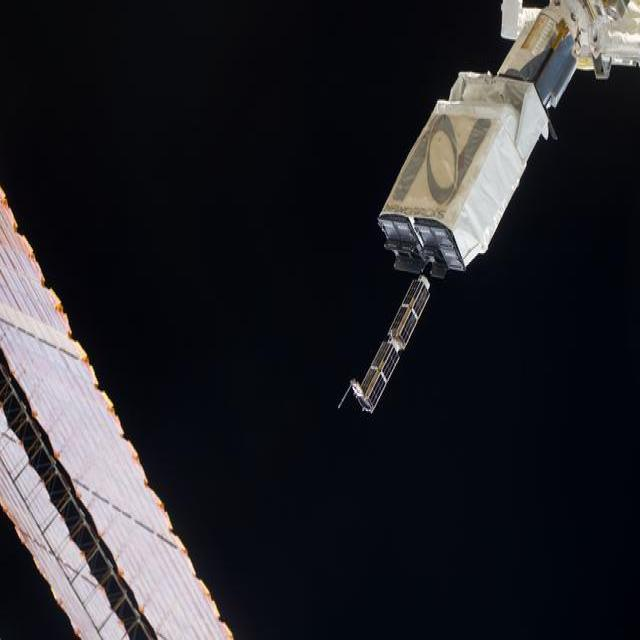medium_debris: (349, 0, 640, 411), (0, 190, 232, 639), (1, 410, 128, 637)
